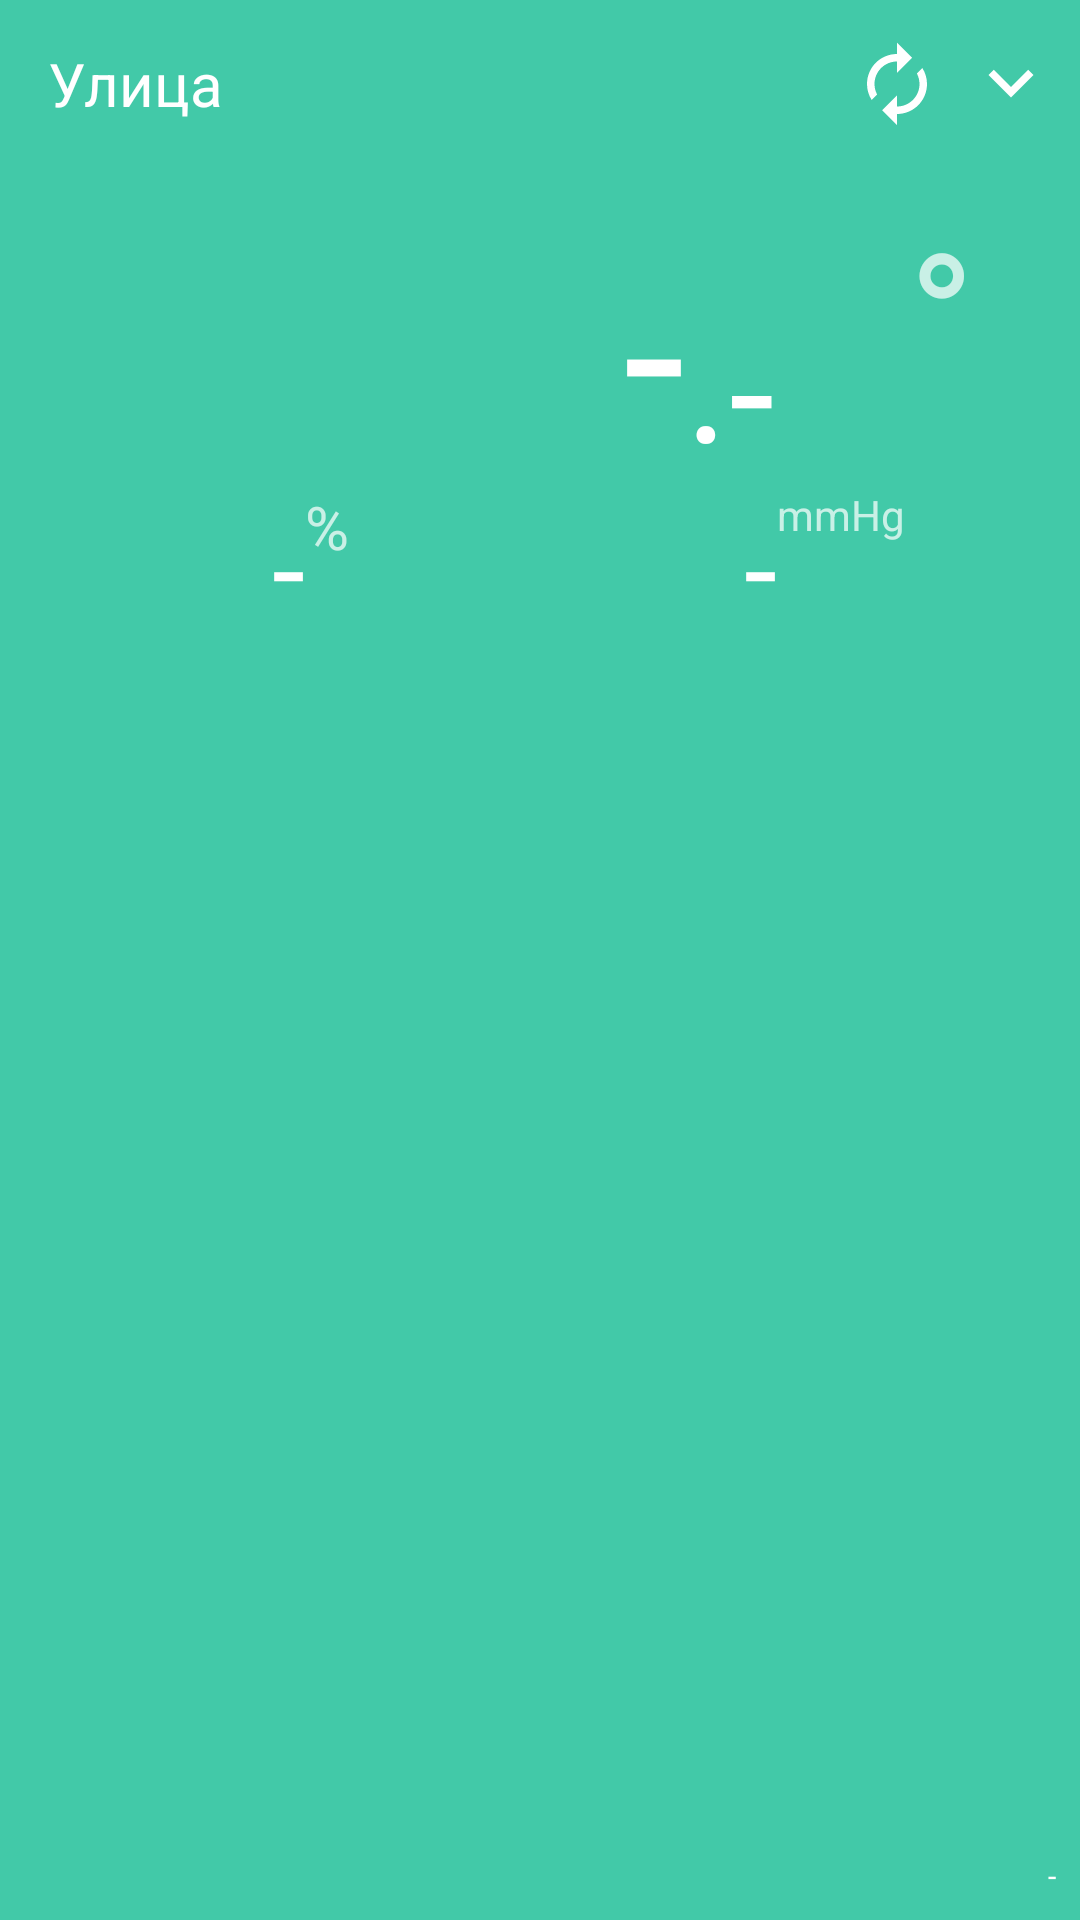

Named icons in this screenshot (1080w x 1920h) and their bounding boxes, (x1, y1, x2, y2):
arrow down: (989, 70, 1033, 97)
autorenew: (867, 43, 927, 125)
